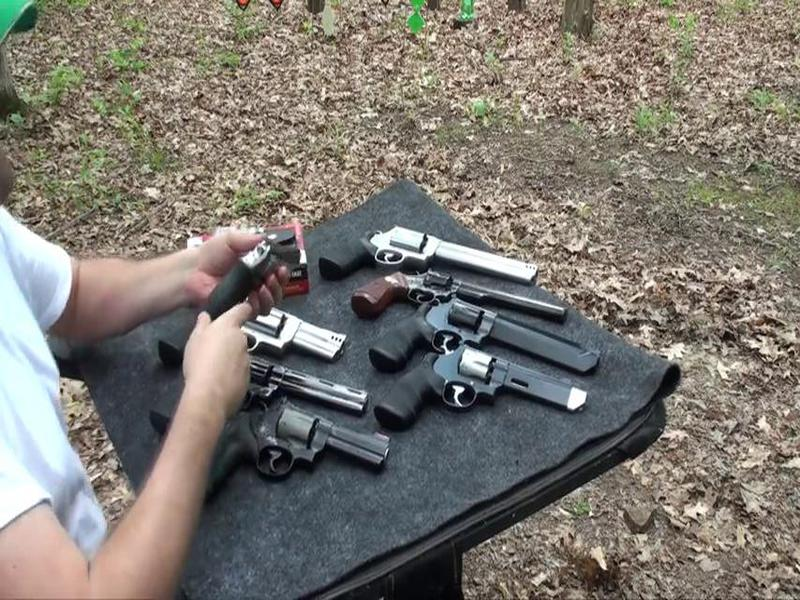Revolver: (186, 232, 333, 323)
